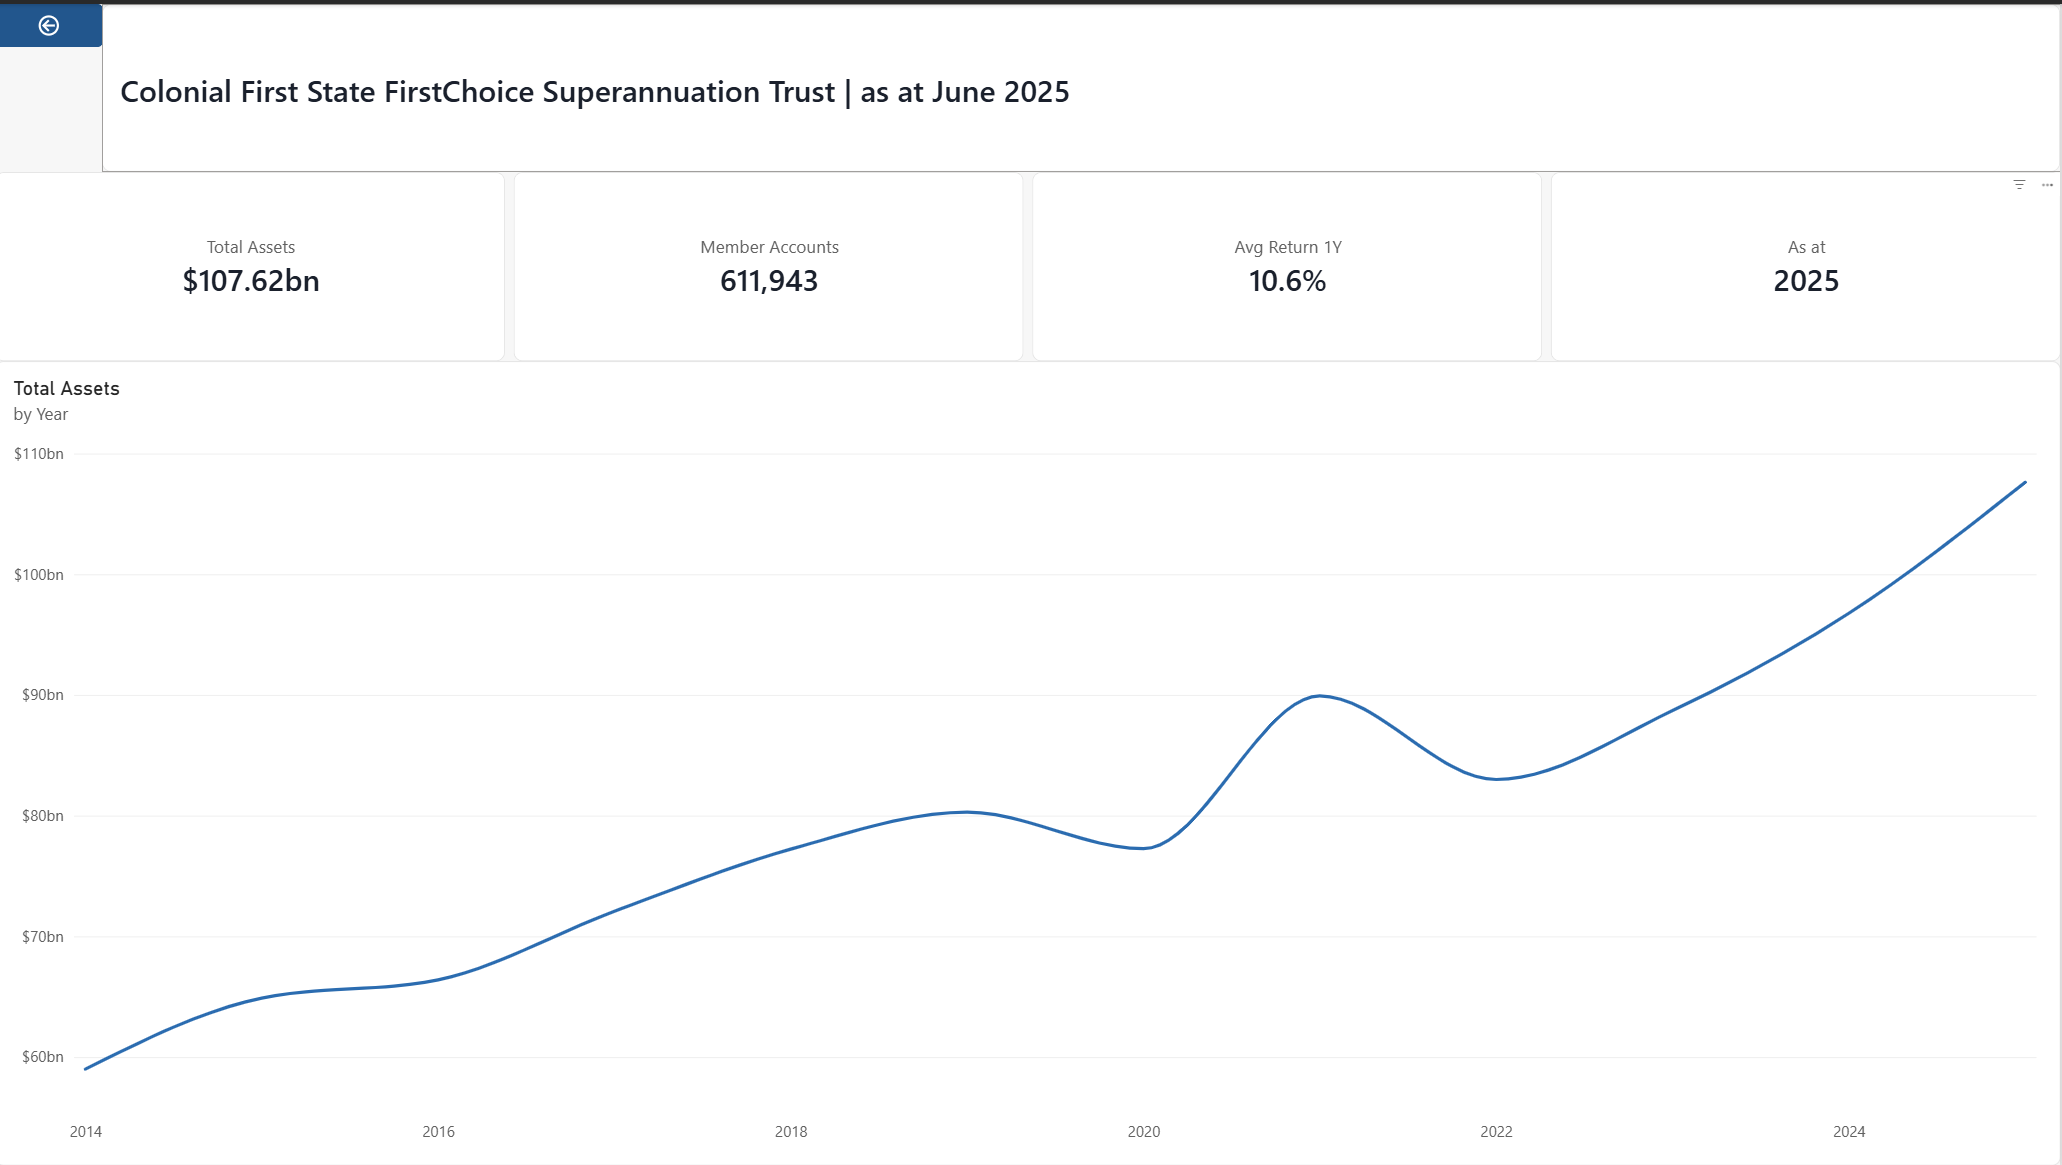

What the dashboard file says about the page in this screenshot:
{"tool":"powerbi","page":{"name":"Fund Detail","canvas":[1920,1080],"ordinal":2},"visuals":[{"type":"actionButton","box":[0,0,100,40],"z":0},{"type":"cardVisual","fields":{"Data":["_Measures.Total Assets (latest year)","_Measures.Member Accounts (latest year)","_Measures.Avg Return 1Y (latest year)","Max(DimFund.Latest Year)"]},"box":[0,156,1920,176],"z":1000},{"type":"lineChart","fields":{"Category":["DimYear.Year"],"Y":["_Measures.Total Assets"]},"box":[0,332,1920,748],"z":2000},{"type":"cardVisual","fields":{"Data":["_Measures.Fund Detail Title"]},"box":[99.9,0,1820.1,156.2],"z":3001}]}

Visuals, with their boxes on the page's 1920x1080 design canvas (x1, y1, x2, y2). These are canvas units, not pixel positions in the 2062x1165 screenshot, which may show the page scaled, cropped or inside an application window:
actionButton: <bbox>0, 0, 100, 40</bbox>
cardVisual - _Measures.Total Assets (latest year) x _Measures.Member Accounts (latest year): <bbox>0, 156, 1920, 332</bbox>
lineChart - DimYear.Year x _Measures.Total Assets: <bbox>0, 332, 1920, 1080</bbox>
cardVisual - _Measures.Fund Detail Title: <bbox>100, 0, 1920, 156</bbox>
